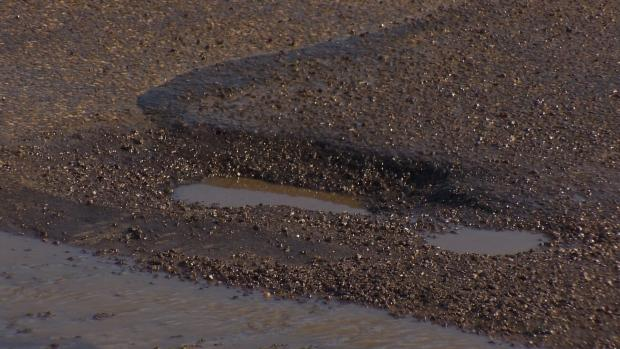Pothole: (1, 172, 583, 349)
